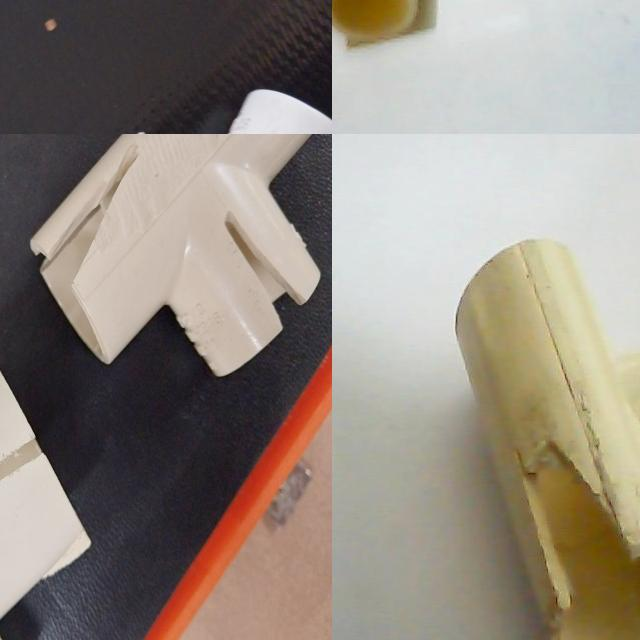Defective: (506, 443, 640, 611), (524, 445, 633, 593), (0, 442, 62, 597), (0, 0, 38, 59), (72, 377, 102, 443), (158, 589, 179, 640)
T Joint: (454, 239, 640, 640), (0, 357, 174, 640)
